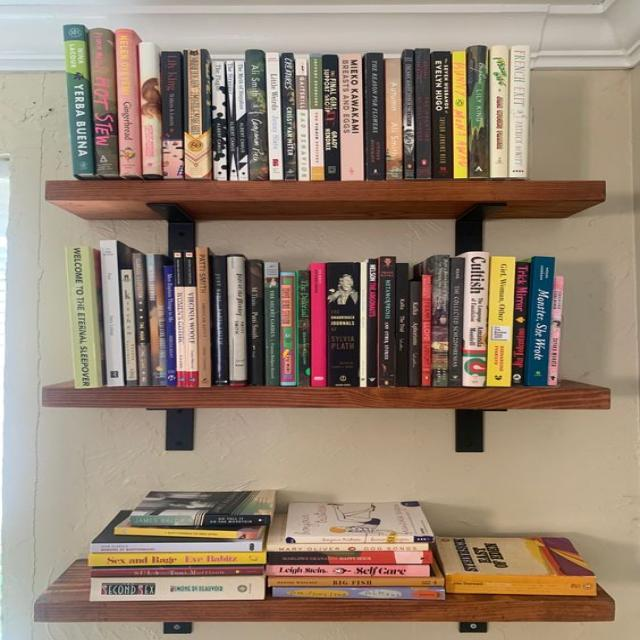book: (65, 245, 98, 388), (64, 25, 93, 175), (89, 30, 118, 174), (327, 263, 358, 386), (527, 257, 556, 386), (488, 256, 516, 386), (115, 29, 139, 175), (463, 252, 489, 386), (183, 48, 209, 178), (100, 240, 123, 386), (339, 53, 365, 181), (246, 50, 269, 180), (468, 46, 490, 178), (434, 51, 454, 179), (163, 52, 183, 178), (148, 254, 167, 386), (140, 43, 159, 174), (209, 255, 228, 386), (366, 52, 385, 180), (132, 253, 150, 387), (246, 259, 265, 385), (510, 45, 528, 177), (322, 55, 341, 180), (228, 254, 246, 385), (448, 257, 466, 386), (432, 255, 449, 386), (513, 262, 531, 385), (267, 52, 284, 179), (492, 46, 508, 178), (211, 62, 228, 180), (197, 247, 211, 387), (280, 272, 297, 387), (416, 49, 431, 179), (310, 52, 325, 181), (295, 54, 310, 180), (453, 52, 468, 178), (380, 256, 394, 387), (386, 58, 401, 180), (282, 52, 296, 180), (548, 276, 564, 386), (122, 270, 137, 386), (265, 262, 279, 386), (311, 262, 325, 386), (174, 249, 186, 387), (394, 262, 407, 387), (164, 265, 177, 386), (235, 61, 248, 181), (186, 250, 197, 387), (404, 50, 415, 179), (227, 61, 238, 181), (299, 271, 310, 385), (409, 282, 420, 388), (368, 258, 376, 387), (422, 274, 430, 387), (361, 262, 366, 386)
